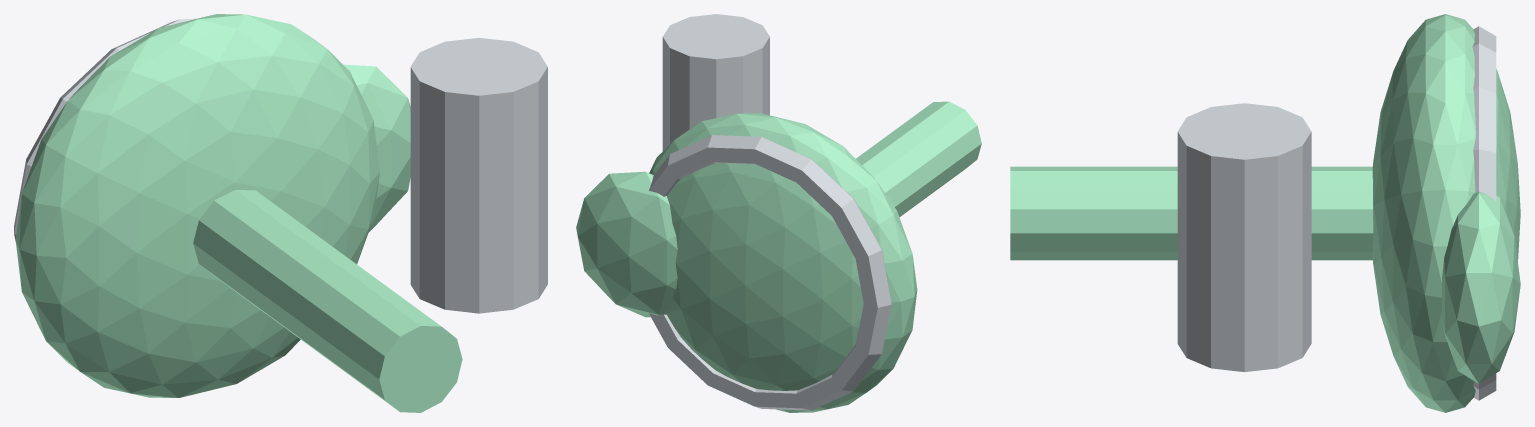
File: ventosa_4.glb
3 renders of one model, left to right at view 1: azimuth 30°, elevation 25°; view 2: azimuth 150°, elevation 25°; view 3: azimuth 270°, elevation 25°, orthographic. The views are drawn at different scales.
Parts seen in each view (by area): view 1: copa, deposito, tubo, copa_doble, aro; view 2: copa, aro, copa_doble, deposito, tubo; view 3: deposito, copa, tubo, copa_doble, aro.
Boxes of the visible parts, x1,y1,x2,y2 form: copa: (15, 14, 379, 397); deposito: (410, 37, 547, 313); tubo: (193, 190, 462, 412); copa_doble: (343, 64, 410, 232); aro: (14, 18, 196, 242); copa: (649, 113, 917, 412); aro: (649, 135, 891, 410); copa_doble: (576, 171, 677, 317); deposito: (662, 14, 769, 151); tubo: (856, 101, 981, 216); deposito: (1177, 103, 1311, 372); copa: (1372, 14, 1520, 412); tubo: (1010, 166, 1373, 260); copa_doble: (1442, 191, 1520, 383); aro: (1472, 26, 1496, 400).
Size of the model in its own units: 0.8262 by 0.7082 by 0.9.
